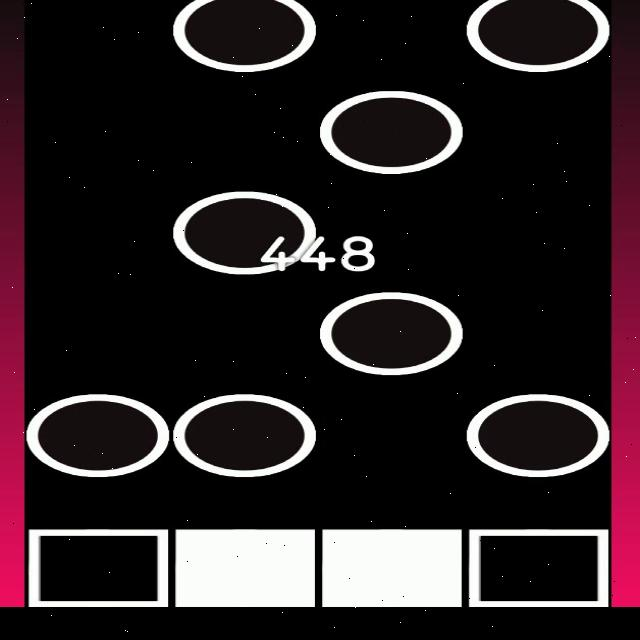note: (464, 395, 613, 480), (321, 87, 462, 173), (174, 192, 318, 274), (26, 394, 170, 476), (322, 292, 462, 376), (174, 394, 314, 478), (463, 0, 611, 73), (176, 0, 318, 73)
